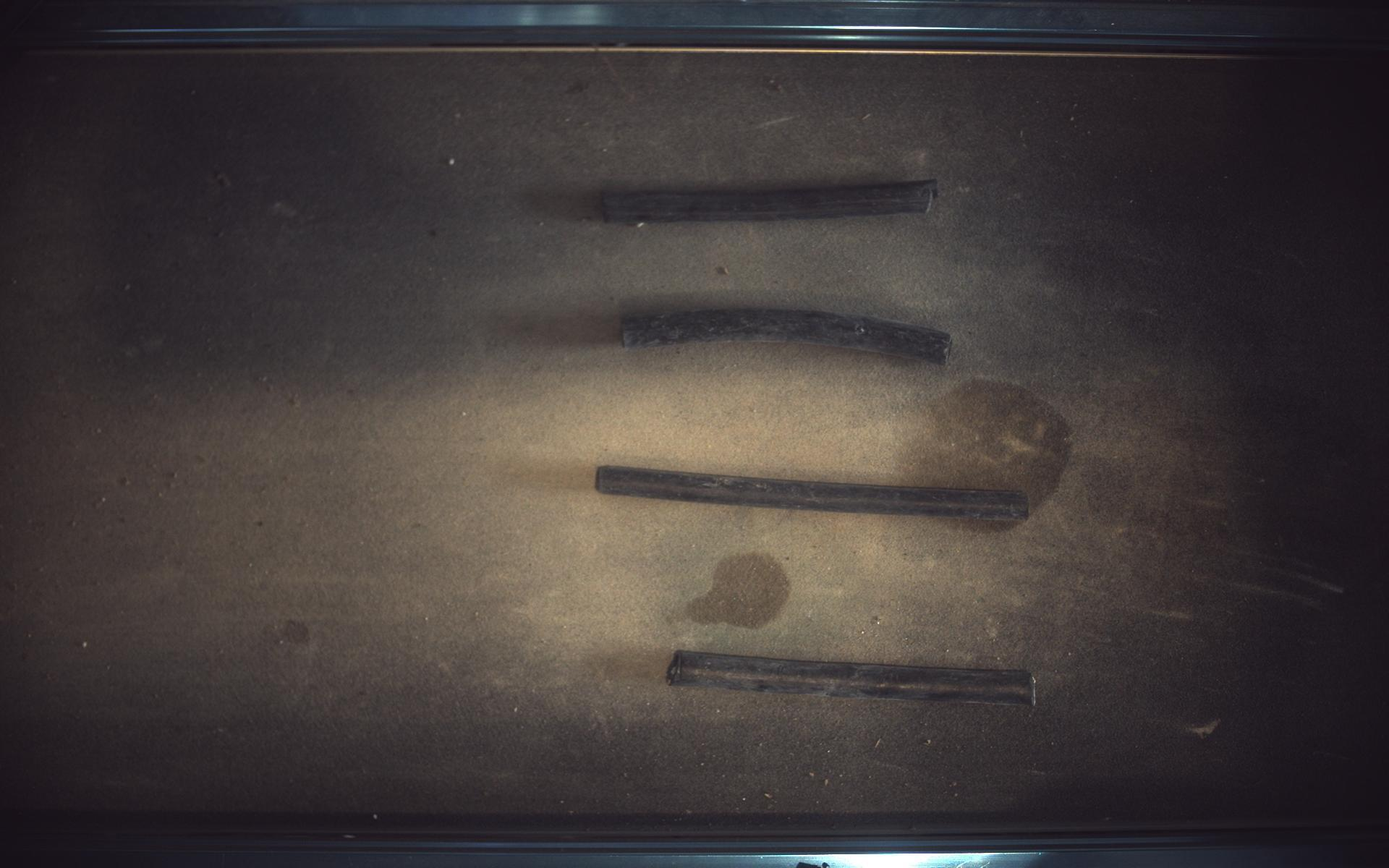pipes: (596, 466, 1031, 521), (667, 651, 1036, 707), (623, 308, 953, 365), (603, 179, 939, 223)
